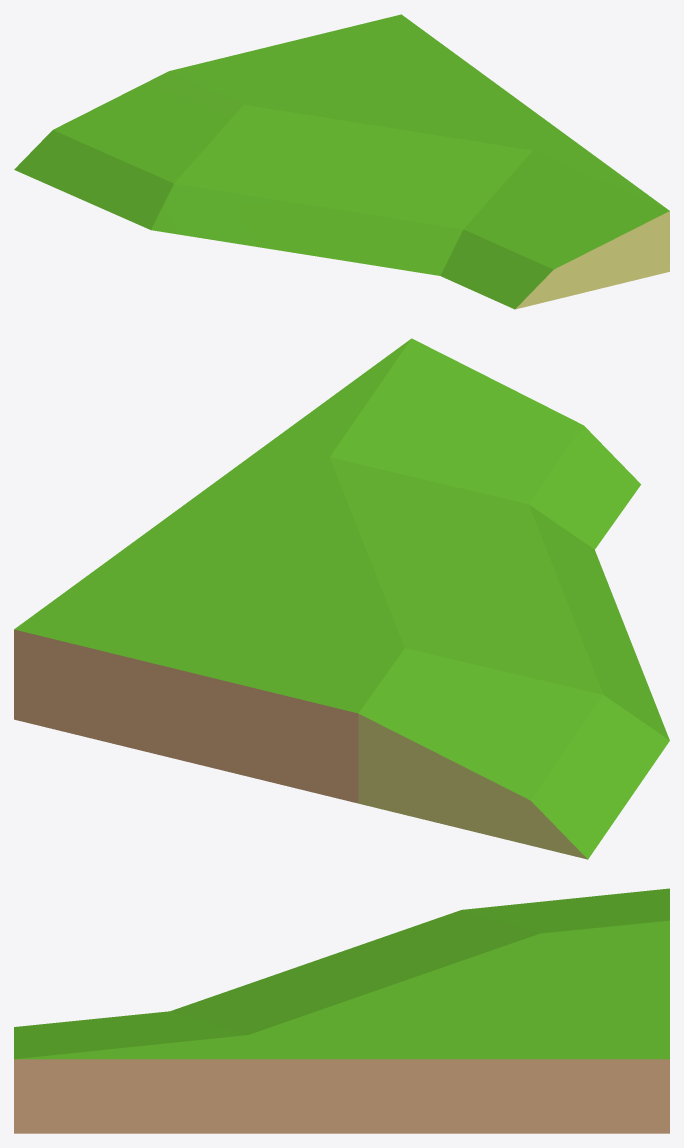
The model's file is Grass_Carpet_Esse_2x2.glb.
3 views of the same model, one above another, from view 1: azimuth 30°, elevation 25°; view 2: azimuth 150°, elevation 25°; view 3: azimuth 270°, elevation 25° (orthographic). The views are drawn at different scales.
Visible parts, largest first — view 1: Grass_Carpet_Esse_2x2; view 2: Grass_Carpet_Esse_2x2; view 3: Grass_Carpet_Esse_2x2.
Boxes of the visible parts, bbox=[...] form: Grass_Carpet_Esse_2x2: bbox=[14, 14, 669, 309]; Grass_Carpet_Esse_2x2: bbox=[14, 338, 669, 859]; Grass_Carpet_Esse_2x2: bbox=[14, 888, 669, 1133].
Bounding box in the file's own units: 167 × 25 × 200.
